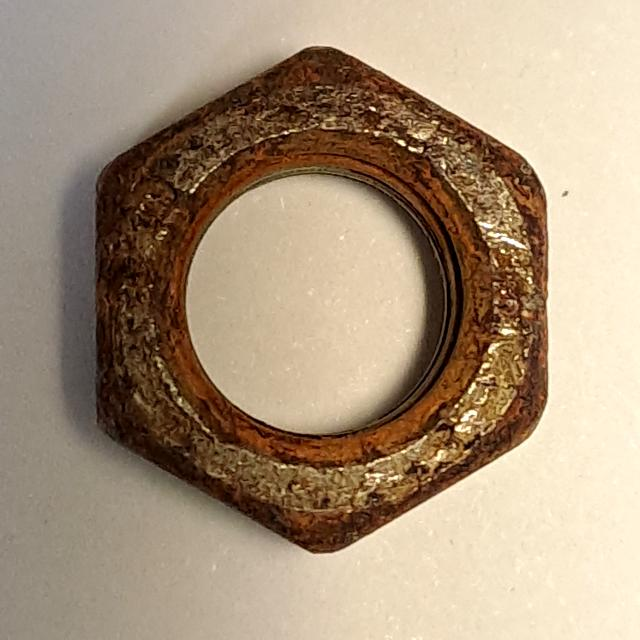Rust: (76, 25, 569, 573)
